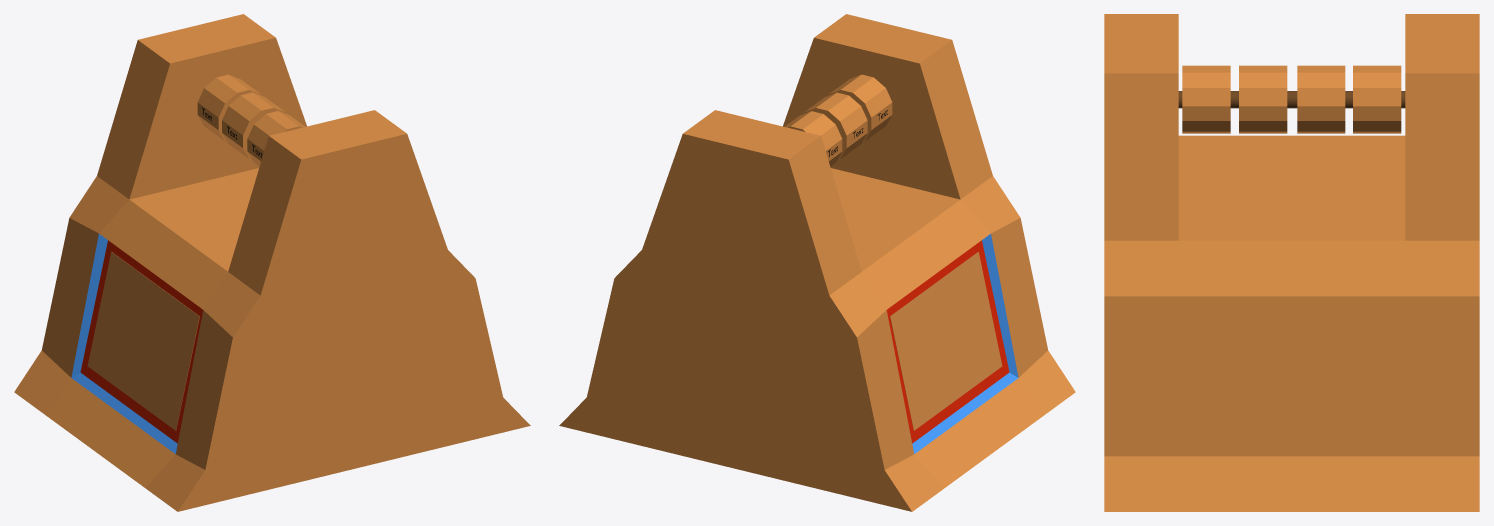
The model's file is Escape_Room_Schaltung.fbx.
3 renders of one model, left to right at view 1: azimuth 30°, elevation 25°; view 2: azimuth 150°, elevation 25°; view 3: azimuth 270°, elevation 25°, orthographic. The views are drawn at different scales.
Visible parts, largest first — view 1: Cube, Cube.005, Cube.003, Cube.004, Cube.002; view 2: Cube, Cube.005, Cube.002, Cube.001, Cube.003; view 3: Cube, Cube.001, Cube.002, Cube.003, Cube.004, Cylinder.
Boxes of the visible parts, box(x1,y1,x2,y2) form: Cube: box(14, 14, 530, 511); Cube.005: box(87, 252, 199, 430); Cube.003: box(222, 92, 286, 160); Cube.004: box(197, 74, 261, 141); Cube.002: box(247, 111, 305, 166); Cube: box(559, 14, 1075, 511); Cube.005: box(890, 252, 1002, 430); Cube.002: box(803, 92, 867, 160); Cube.001: box(828, 74, 892, 142); Cube.003: box(784, 111, 842, 166); Cube: box(1104, 14, 1479, 511); Cube.001: box(1182, 65, 1230, 133); Cube.002: box(1239, 65, 1287, 133); Cube.003: box(1297, 65, 1345, 133); Cube.004: box(1353, 65, 1401, 133); Cylinder: box(1178, 91, 1405, 108).
Size of the model in its own units: 982 by 856 by 788.
